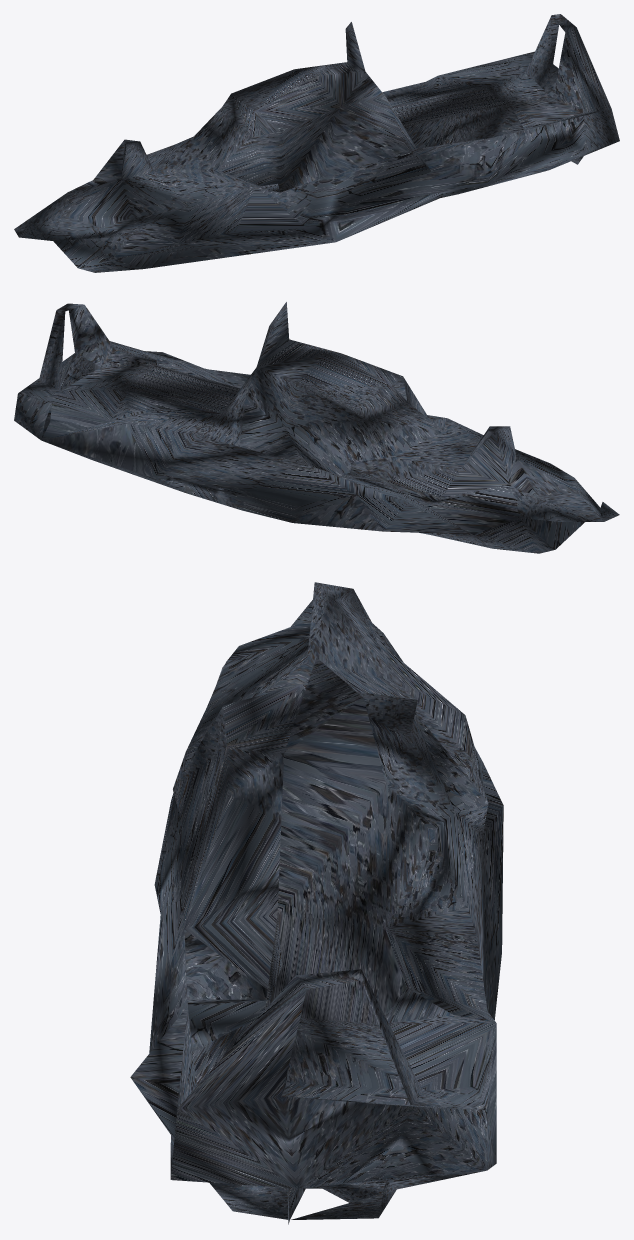
File: mcm-usv-meshy-ultra-v1.glb
3 renders of one model, top to bottom at view 1: azimuth 30°, elevation 25°; view 2: azimuth 150°, elevation 25°; view 3: azimuth 270°, elevation 25°, orthographic. The views are drawn at different scales.
Bounding box in the file's own units: 1.86 × 0.6272 × 0.5336.
Materials: 1 (1 with a texture image).
